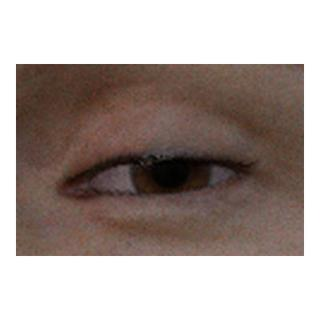pupil: (152, 152, 189, 189)
